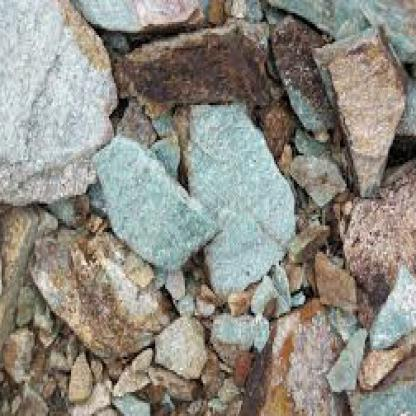Metamorphic_Quartize: (172, 90, 292, 302), (0, 0, 121, 206), (86, 110, 213, 278), (306, 16, 414, 180), (356, 267, 414, 381)
